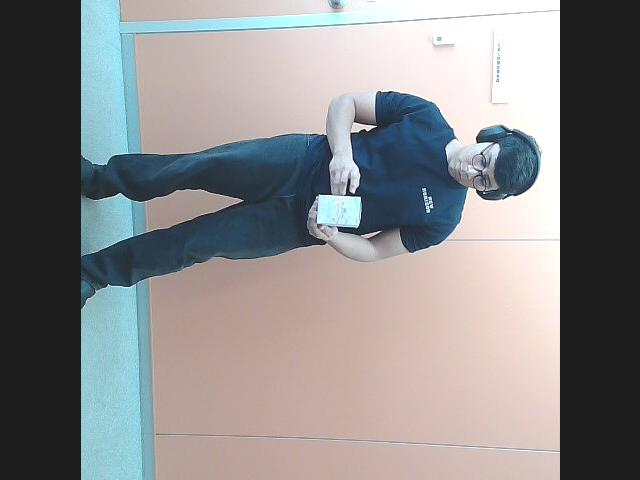Blind_box: (307, 193, 363, 227)
